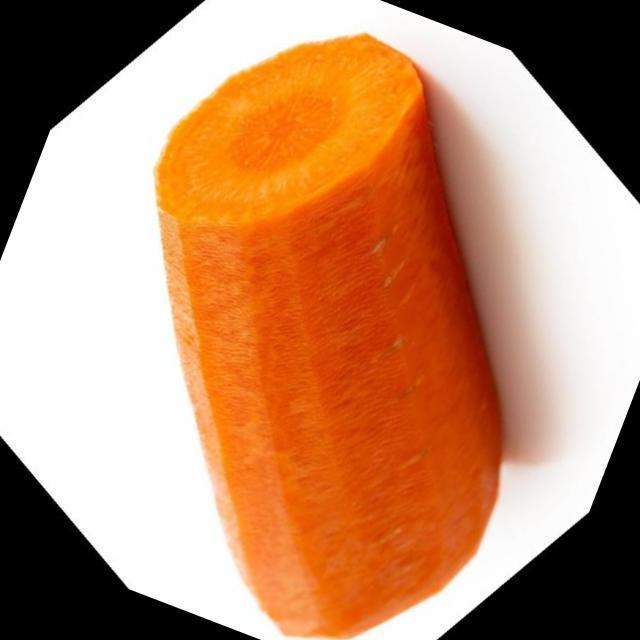Carrot: (156, 35, 500, 634)
